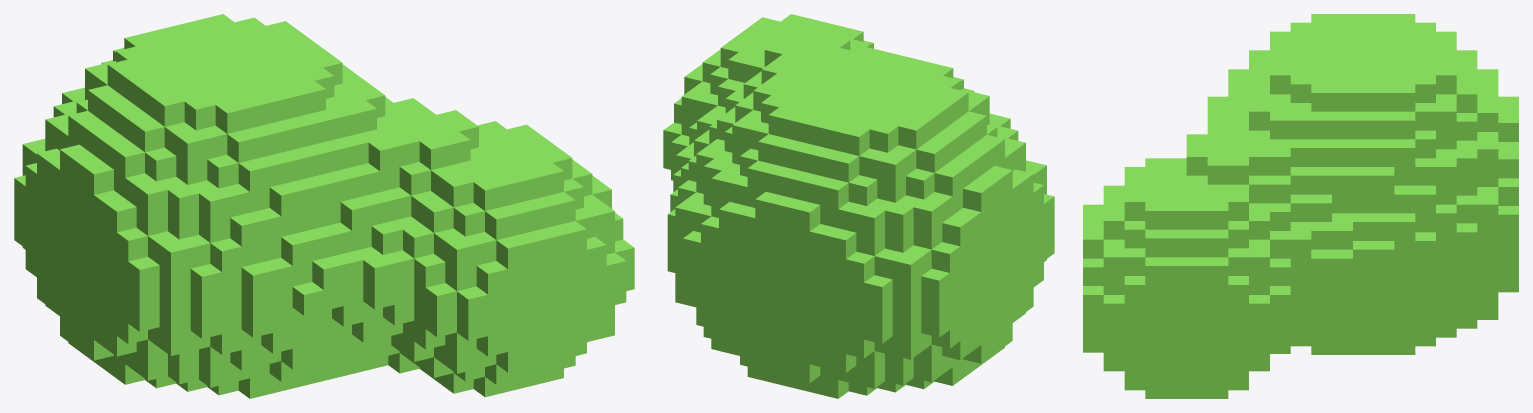
File: SimpleBush_Big.obj
3 renders of one model, left to right at view 1: azimuth 30°, elevation 25°; view 2: azimuth 150°, elevation 25°; view 3: azimuth 270°, elevation 25°, orthographic. The views are drawn at different scales.
Bounding box in the file's own units: 2.1 × 1.3 × 2.1.
Materials: 1 (1 with a texture image).
